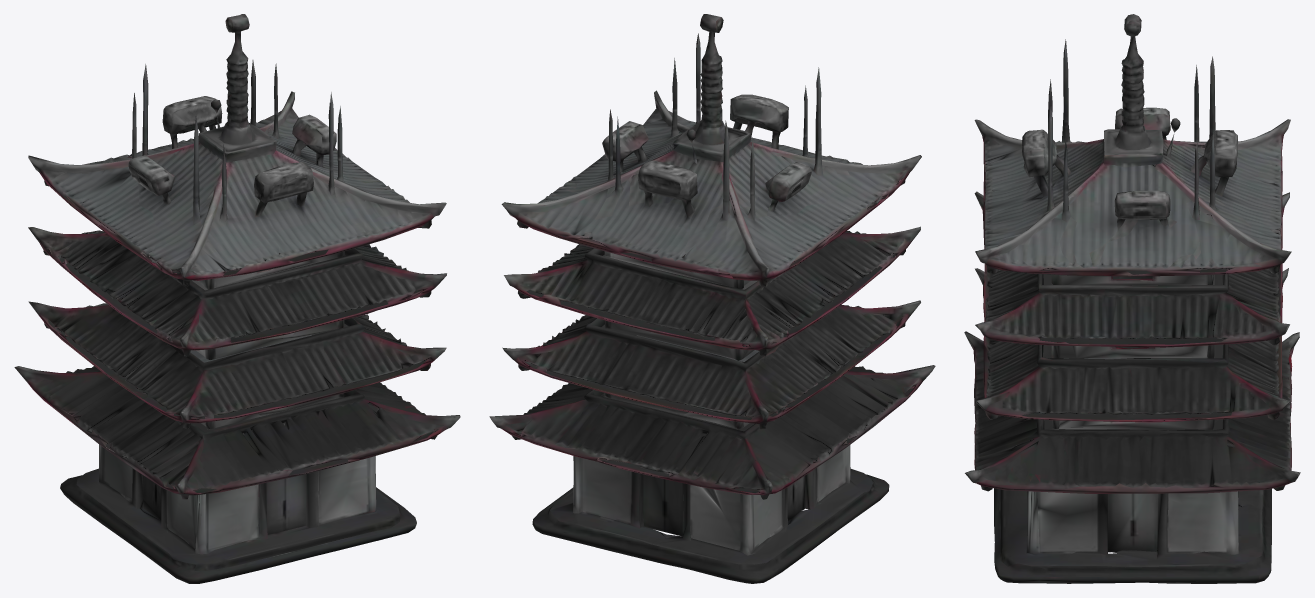
Rendered from lm_pagoda.glb.
3 views of the same model, side by side, from view 1: azimuth 30°, elevation 25°; view 2: azimuth 150°, elevation 25°; view 3: azimuth 270°, elevation 25° (orthographic). The views are drawn at different scales.
Visible parts, largest first — view 1: geometry_0; view 2: geometry_0; view 3: geometry_0.
Boxes of the visible parts, box(x1,y1,x2,y2) form: geometry_0: box(14, 14, 460, 583); geometry_0: box(489, 14, 935, 583); geometry_0: box(964, 14, 1300, 583).
Size of the model in its own units: 0.5565 by 0.9271 by 0.5559.
Materials: 1 (1 with a texture image).
